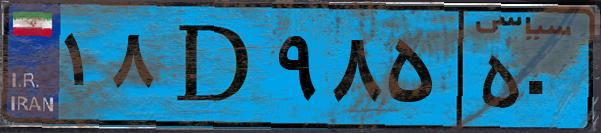0: (525, 38, 570, 115)
1: (57, 26, 110, 100)
5: (385, 28, 445, 110), (475, 38, 525, 113)
8: (330, 28, 385, 110), (110, 28, 158, 98)
9: (270, 28, 330, 110)
D: (158, 12, 270, 120)
